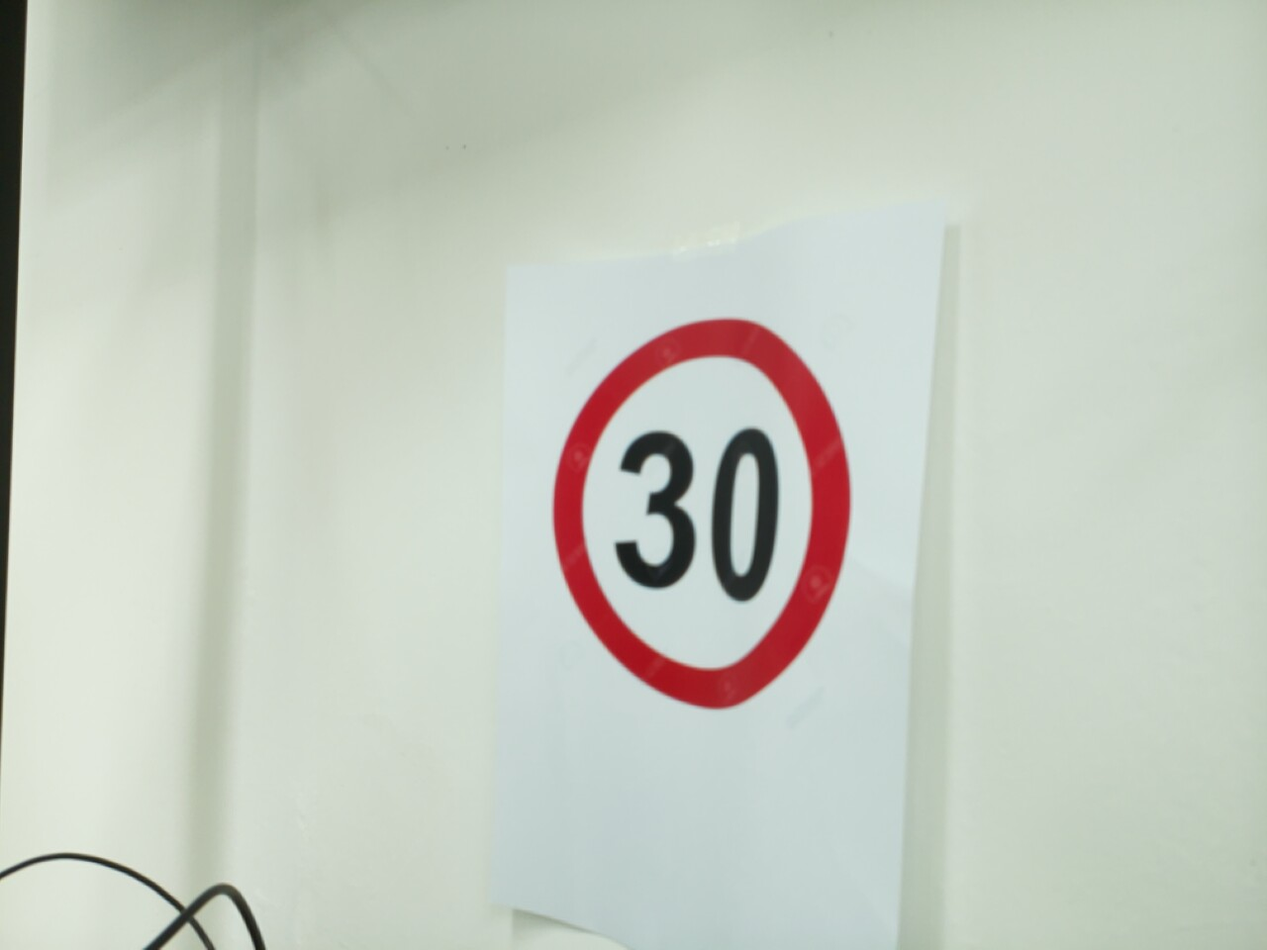speed_30: (543, 307, 860, 721)
